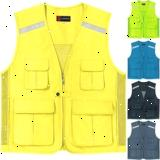Vest: (0, 1, 127, 154), (126, 40, 160, 80), (126, 79, 160, 119), (126, 0, 160, 39), (126, 120, 159, 160)
